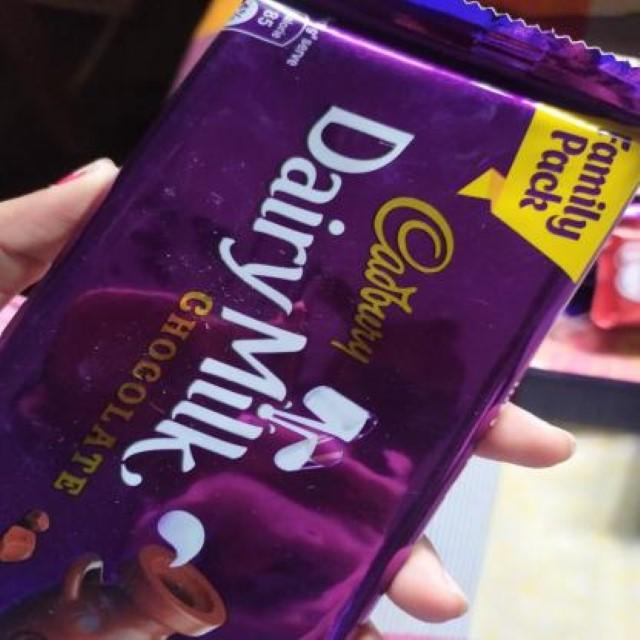cadbury_chocolate: (7, 0, 633, 640)
